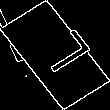L_SW: (22, 28, 88, 82)
